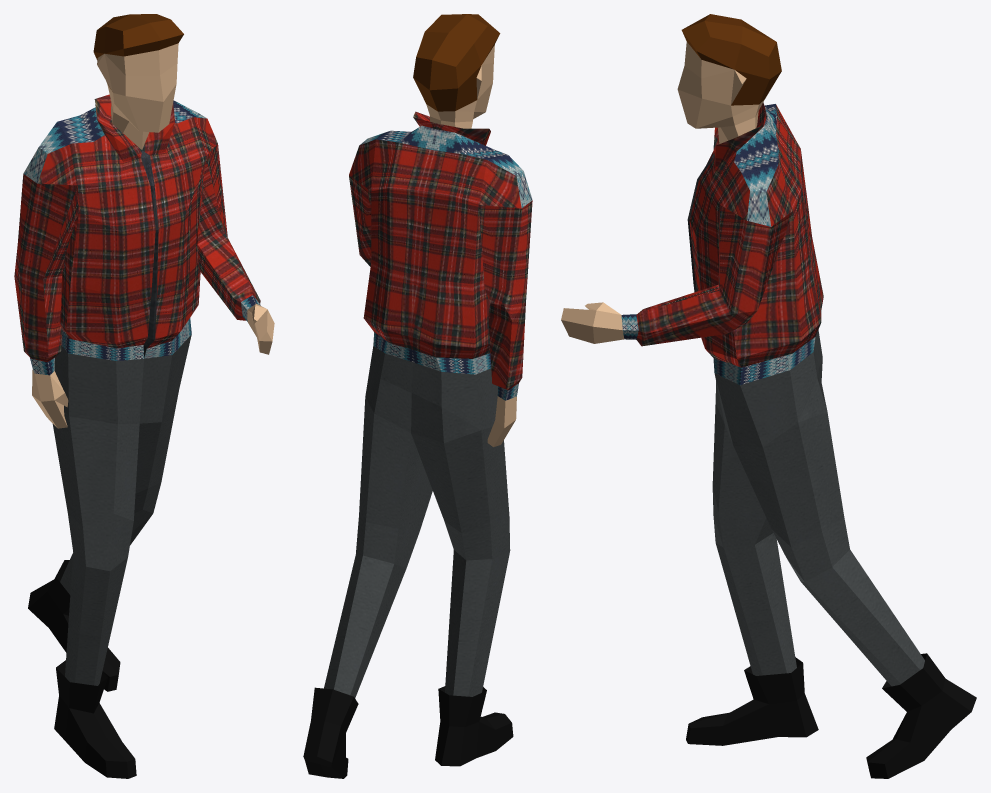
Rendered from AutumnManC.007.glb.
3 views of the same model, side by side, from view 1: azimuth 30°, elevation 25°; view 2: azimuth 150°, elevation 25°; view 3: azimuth 270°, elevation 25° (orthographic). The views are drawn at different scales.
Visible parts, largest first — view 1: AutumnManC.007; view 2: AutumnManC.007; view 3: AutumnManC.007.
Boxes of the visible parts, x1,y1,x2,y2 form: AutumnManC.007: (14, 14, 274, 778); AutumnManC.007: (303, 14, 532, 778); AutumnManC.007: (561, 14, 976, 778).
Size of the model in its own units: 0.4646 by 1.75 by 0.9016.
Materials: 1 (1 with a texture image).
